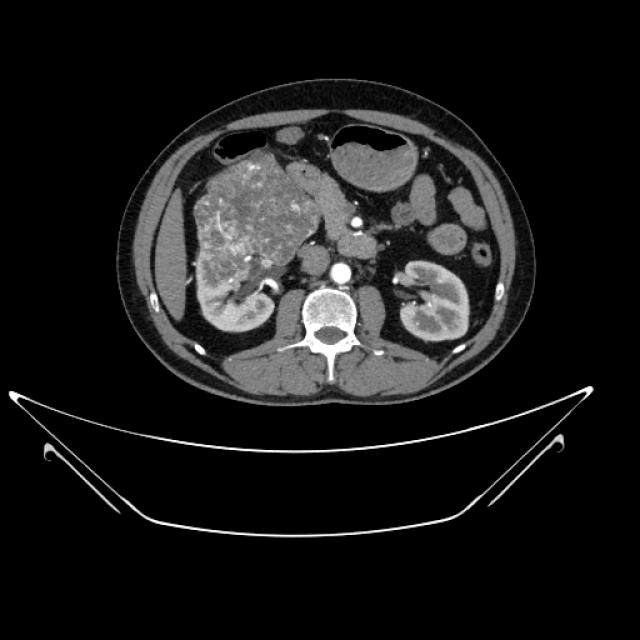Tumor: (185, 153, 302, 318)
